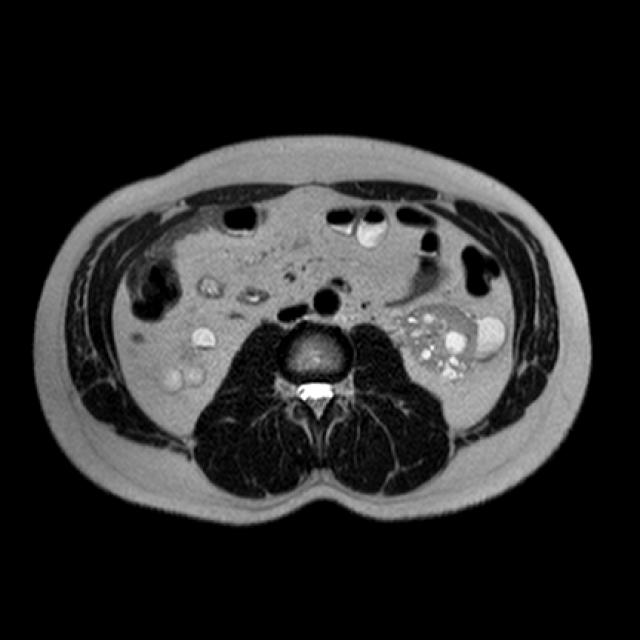sag: (157, 328, 215, 394)
sol: (387, 301, 509, 389)
